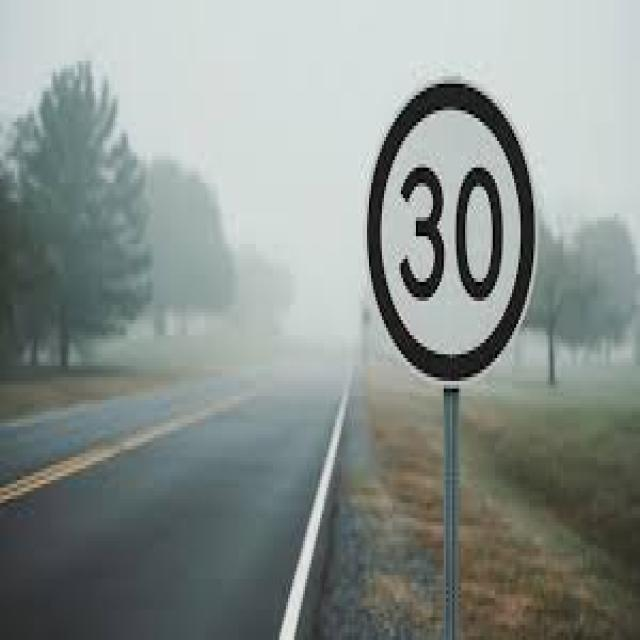Speed limit 30: (364, 74, 539, 390)
